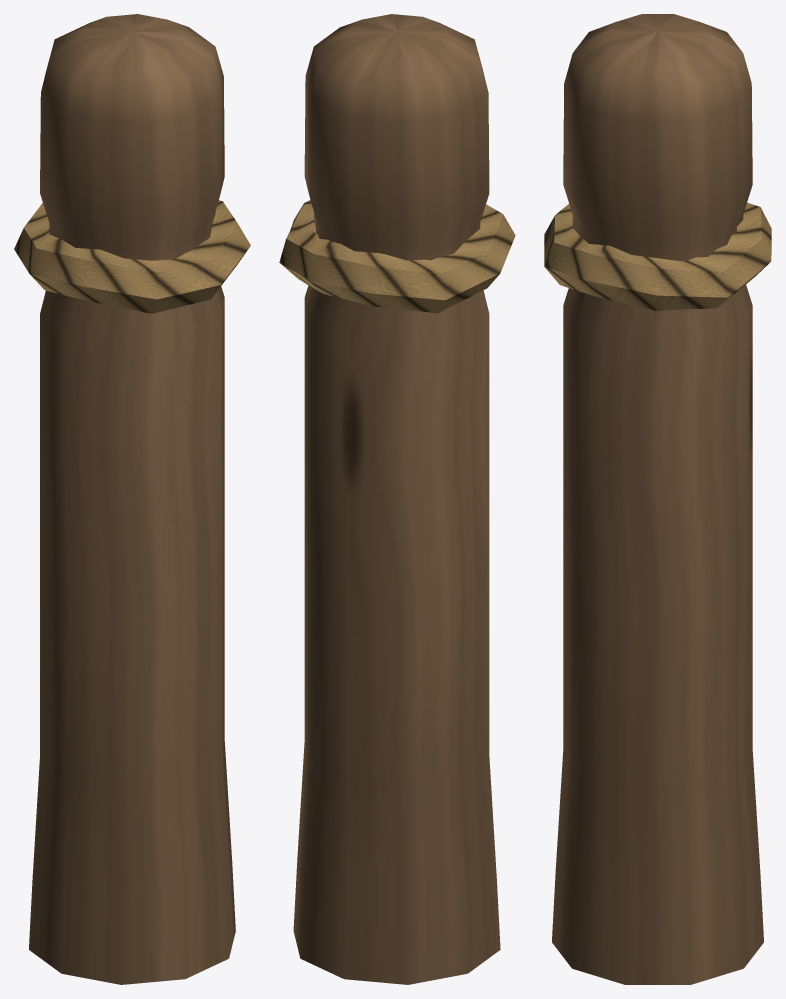
The model's file is rope-post.glb.
The picture shows the model from 3 angles, left to right: view 1: azimuth 30°, elevation 25°; view 2: azimuth 150°, elevation 25°; view 3: azimuth 270°, elevation 25°; orthographic projection.
Visible parts, largest first — view 1: rope-post; view 2: rope-post; view 3: rope-post.
Boxes of the visible parts, x1,y1,x2,y2 form: rope-post: (14,14,250,984); rope-post: (279,14,515,984); rope-post: (544,14,771,984).
Size of the model in its own units: 0.2144 by 0.902 by 0.204.
Materials: 2 (2 with a texture image).
